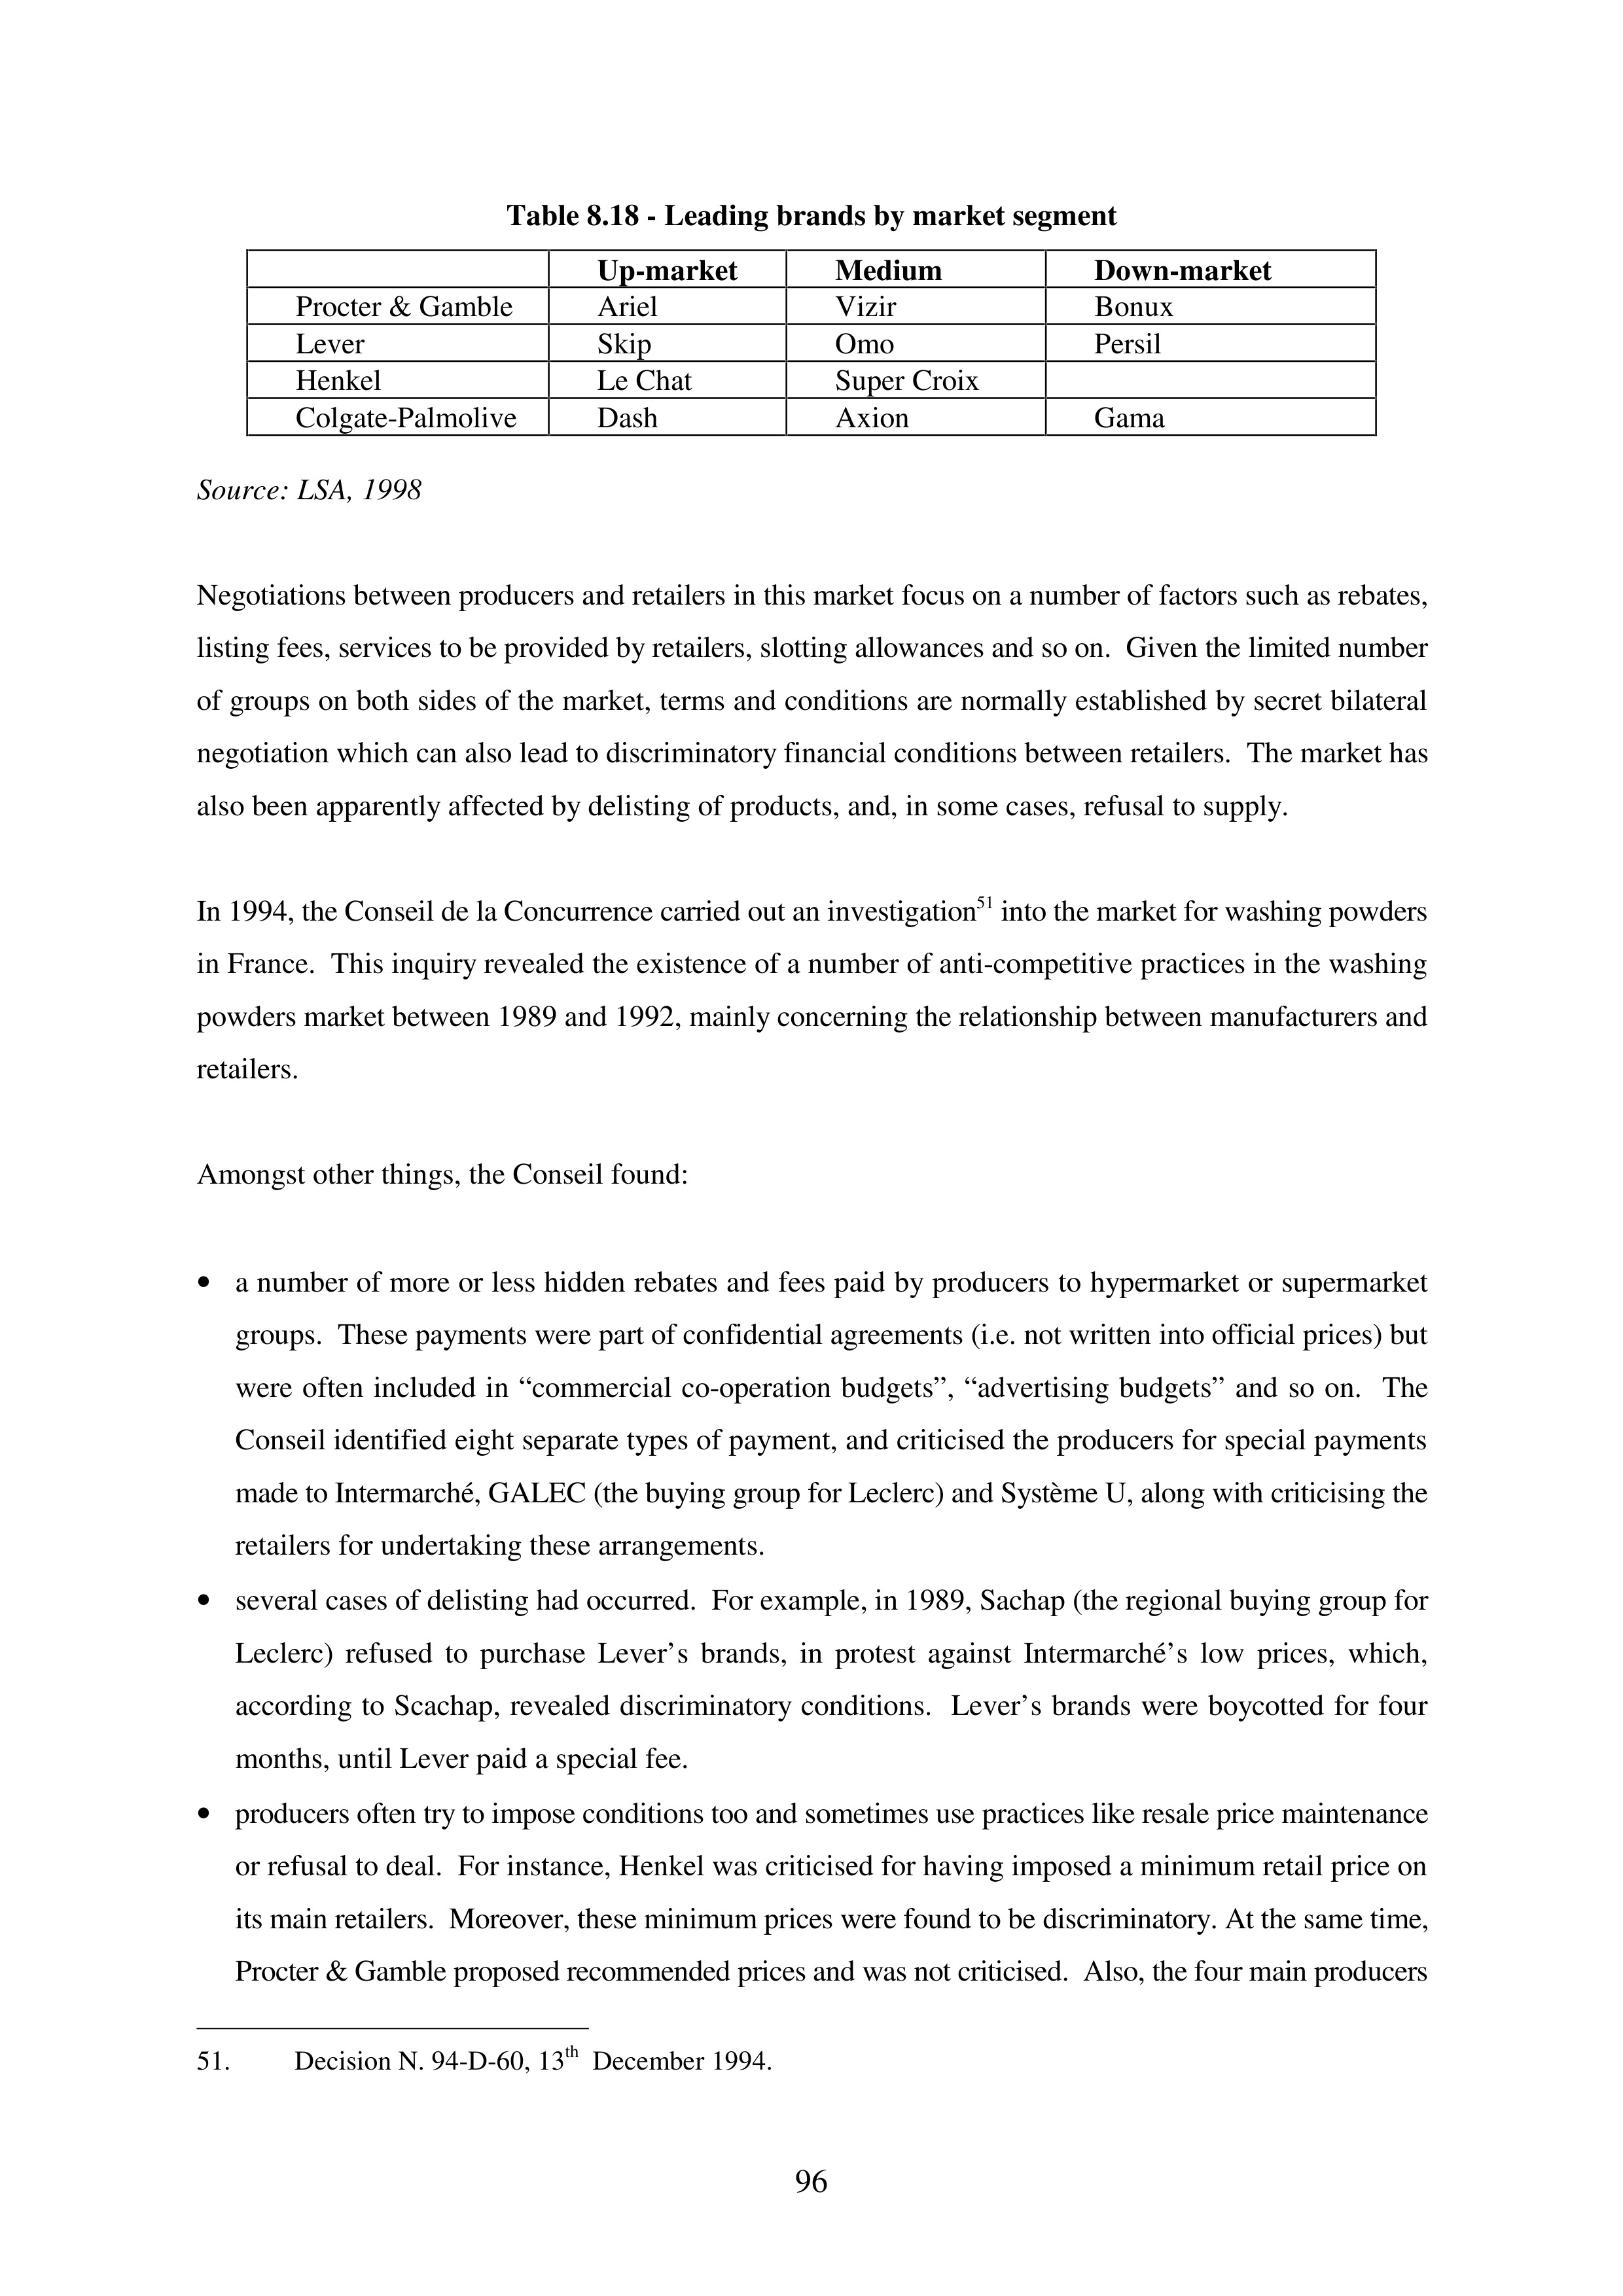table: (295, 249, 1272, 435)
